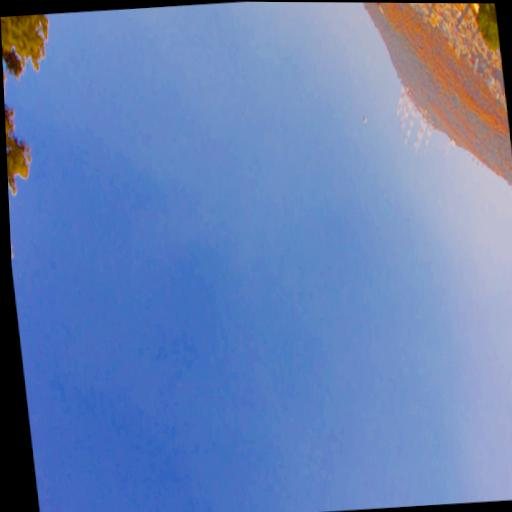drones: (359, 114, 368, 127)
